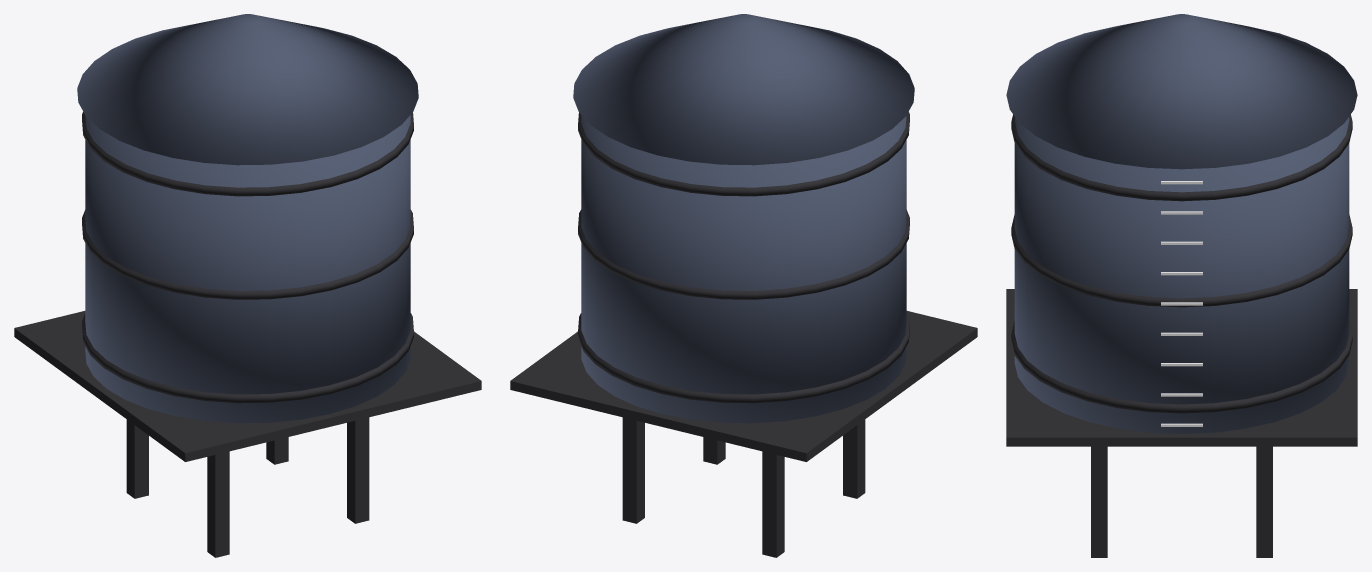
Rendered from SM_WaterTank.fbx.
3 renders of one model, left to right at view 1: azimuth 30°, elevation 25°; view 2: azimuth 150°, elevation 25°; view 3: azimuth 270°, elevation 25°, orthographic. The views are drawn at different scales.
Parts seen in each view (by area): view 1: SM_WaterTank; view 2: SM_WaterTank; view 3: SM_WaterTank.
Boxes of the visible parts, box(x1,y1,x2,y2) form: SM_WaterTank: box(14, 14, 481, 557); SM_WaterTank: box(510, 14, 977, 557); SM_WaterTank: box(1006, 14, 1357, 557).
Size of the model in its own units: 4.2 by 4.2 by 6.6.
